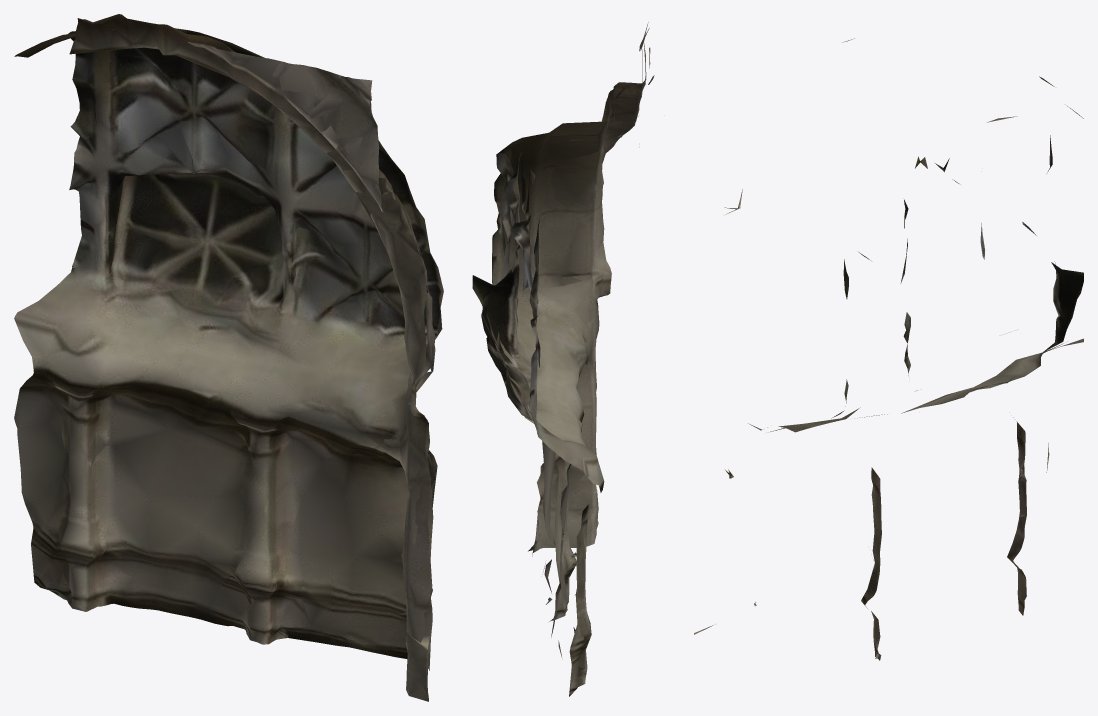
3 renders of one model, left to right at view 1: azimuth 30°, elevation 25°; view 2: azimuth 150°, elevation 25°; view 3: azimuth 270°, elevation 25°, orthographic. The views are drawn at different scales.
Size of the model in its own units: 1.57 by 3.53 by 2.15.
1 material, 1 textured.
